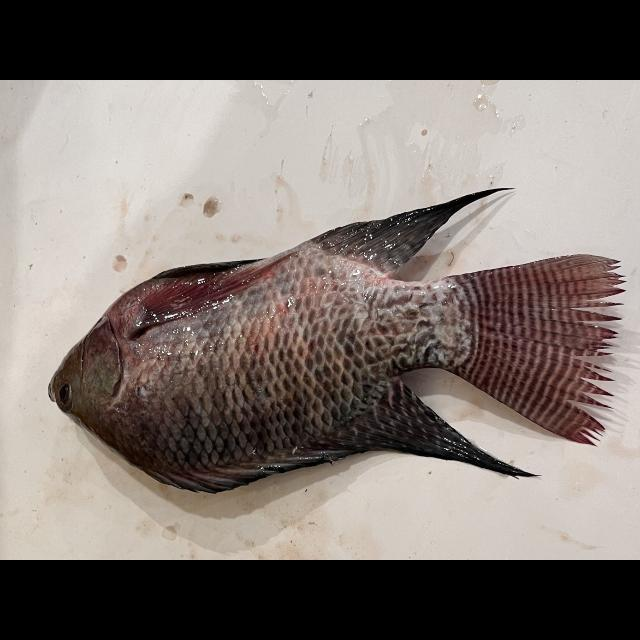Tilapia: (47, 184, 628, 493)
